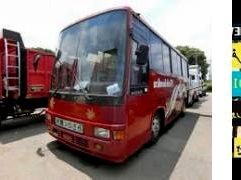bus: (46, 5, 193, 167)
